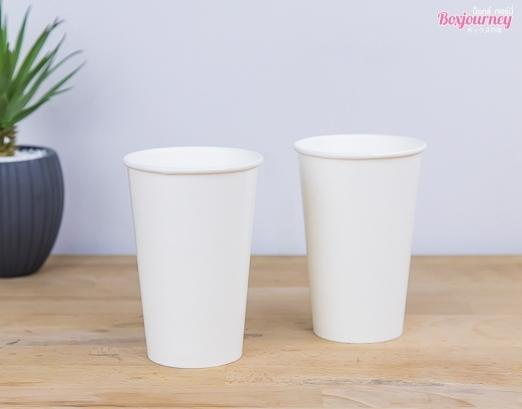PaperCup: (292, 135, 430, 344)
